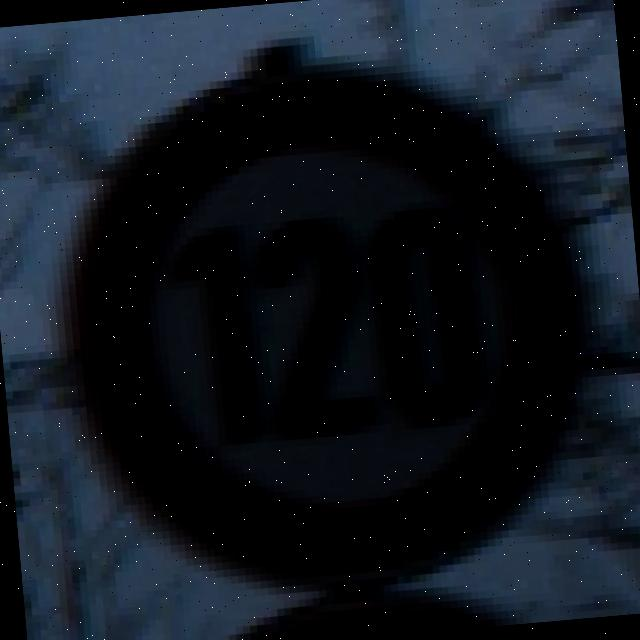Ograniczenie predkosci do 120: (54, 52, 594, 599)
